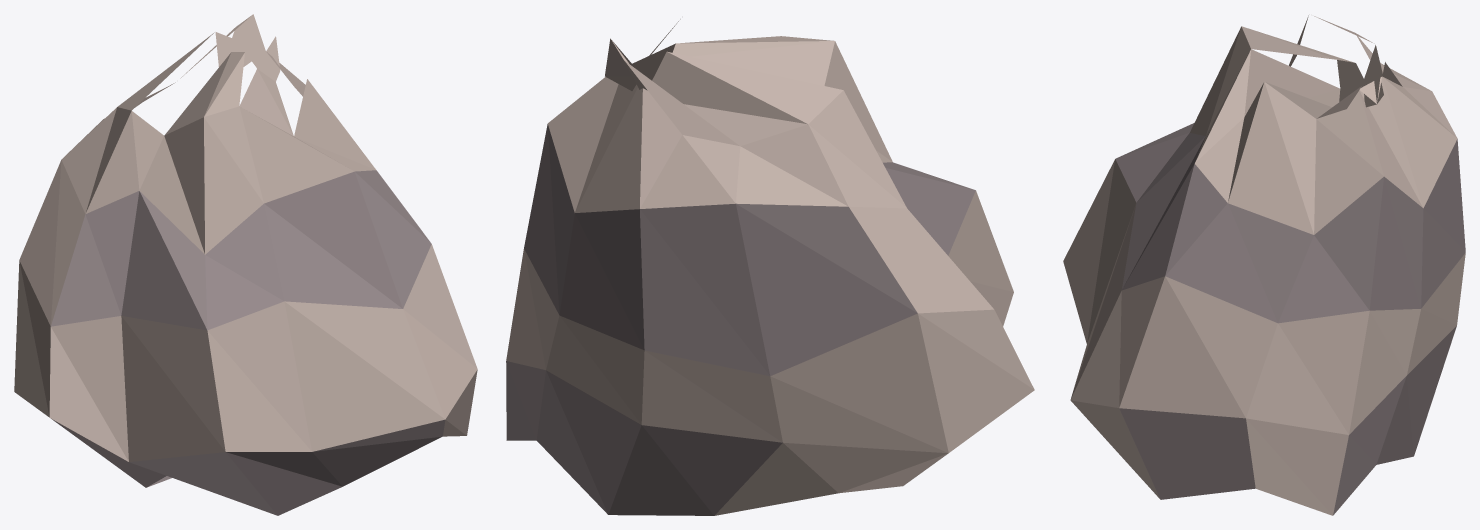
File: eroded_boulder_3.glb
The picture shows the model from 3 angles, left to right: view 1: azimuth 30°, elevation 25°; view 2: azimuth 150°, elevation 25°; view 3: azimuth 270°, elevation 25°; orthographic projection. The views are drawn at different scales.
Visible parts, largest first — view 1: eroded_boulder_3; view 2: eroded_boulder_3; view 3: eroded_boulder_3.
Boxes of the visible parts, left/top/right/bottom form: eroded_boulder_3: left=14, top=14, right=477, bottom=515; eroded_boulder_3: left=506, top=19, right=1034, bottom=515; eroded_boulder_3: left=1063, top=15, right=1465, bottom=515.
Bounding box in the file's own units: 1.19 × 1.07 × 0.978.
